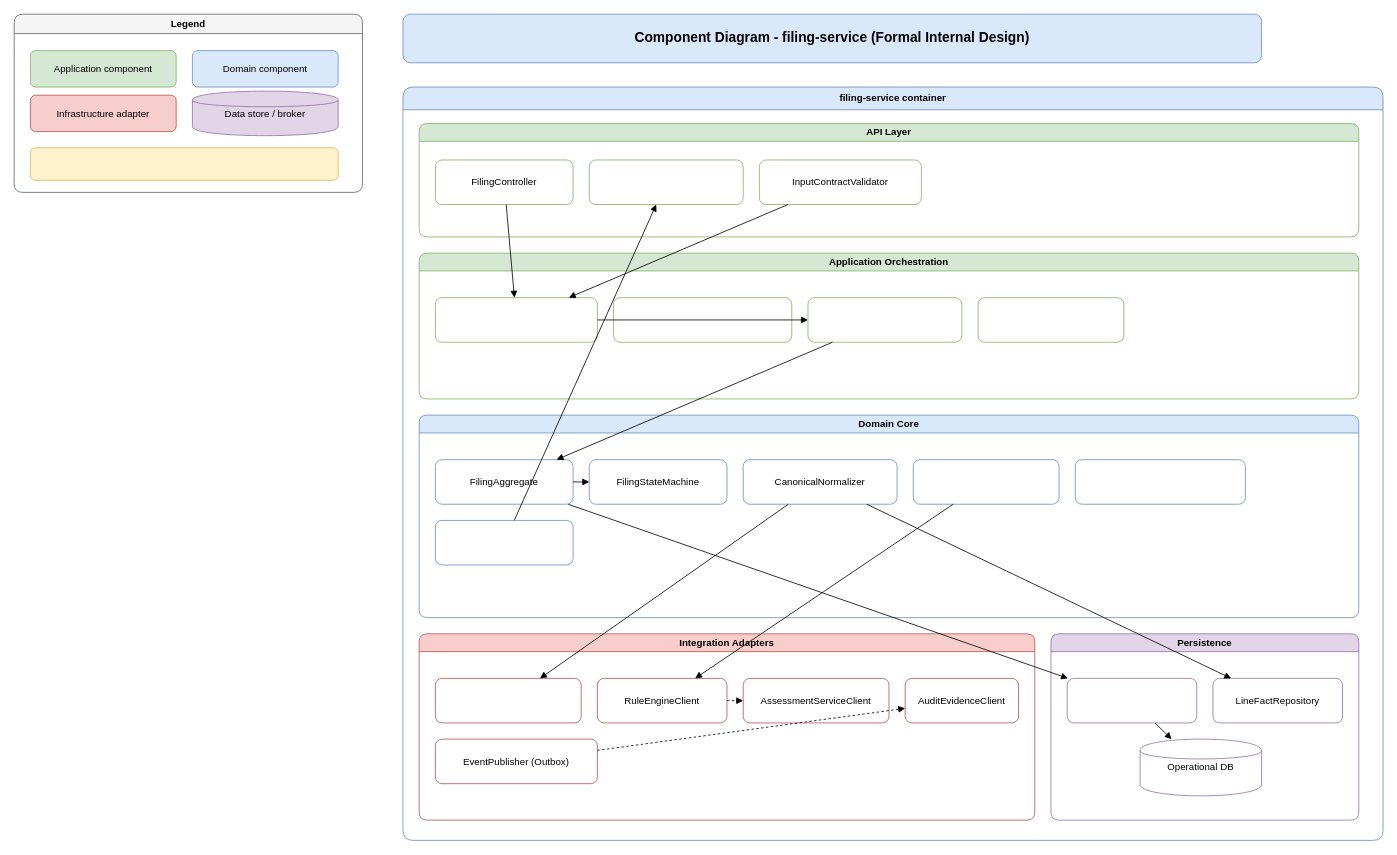
The diagram is 1397 pixels wide and 855 high, and some of its shapes have lost their labels. The shapes that lost their labels are listed below. From the top down, each one's centre as x and y in pixels, then its label:
At point (184, 163): "Dashed line = async/event interaction".
At point (665, 182): "FilingQueryController".
At point (516, 319): "FilingCommandHandler".
At point (702, 319): "AmendmentCommandHandler".
At point (884, 319): "WorkflowOrchestrator".
At point (1050, 319): "IdempotencyGuard".
At point (985, 481): "RuleVersionResolver".
At point (1159, 481): "AmendmentLineagePolicy".
At point (504, 542): "ResponseMapper".
At point (508, 700): "ValidationServiceClient".
At point (1131, 700): "FilingRepository".
